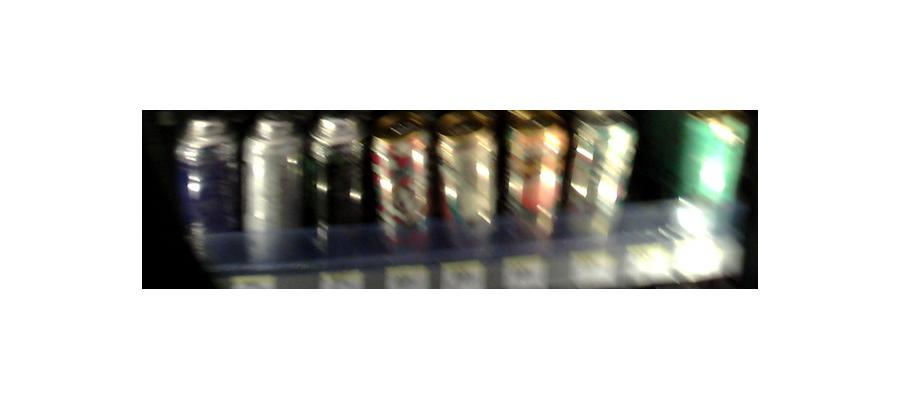bottle: (670, 108, 748, 258), (566, 111, 635, 260), (242, 113, 303, 273), (175, 116, 238, 266), (305, 107, 367, 255), (374, 112, 432, 266), (503, 115, 565, 246), (436, 119, 497, 252)
